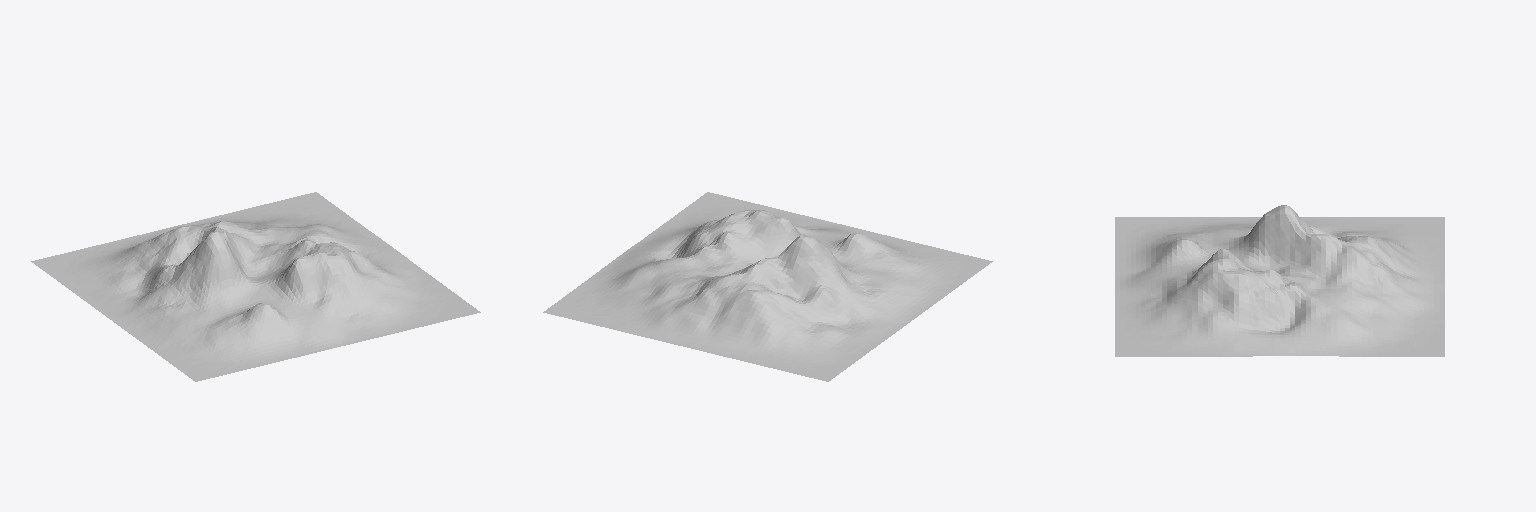
File: cook_map.obj
The picture shows the model from 3 angles: view 1: azimuth 30°, elevation 25°; view 2: azimuth 150°, elevation 25°; view 3: azimuth 270°, elevation 25°; orthographic projection.
Visible parts, largest first — view 1: cook_hm3_hm3; view 2: cook_hm3_hm3; view 3: cook_hm3_hm3.
Part boxes in pixels (left/top/right/bottom): cook_hm3_hm3: left=31, top=192, right=480, bottom=381; cook_hm3_hm3: left=543, top=192, right=992, bottom=381; cook_hm3_hm3: left=1115, top=205, right=1444, bottom=356.
Size of the model in its own units: 1024 by 212 by 1024.